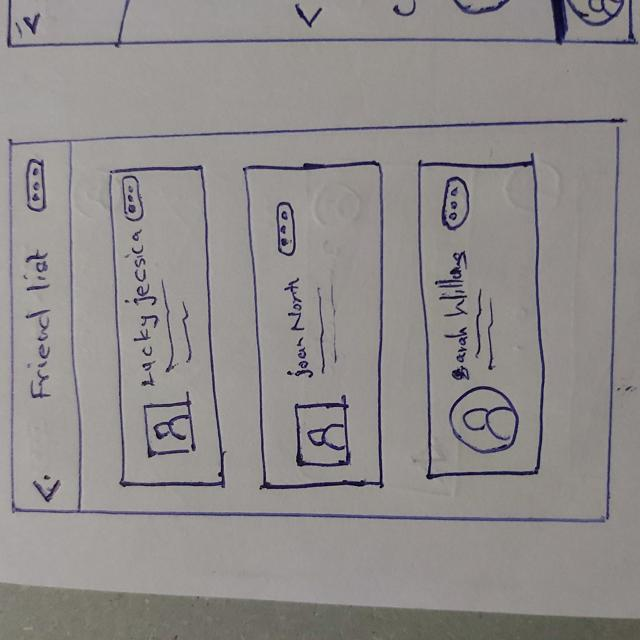ActionButton: (8, 154, 72, 218)
AppBar: (6, 140, 86, 513)
BackButton: (28, 472, 64, 507)
Icon: (450, 385, 518, 454), (295, 402, 355, 471), (142, 401, 197, 455), (441, 177, 471, 231), (276, 202, 298, 256), (122, 174, 145, 222), (27, 158, 47, 213)
Layout: (243, 161, 389, 489), (415, 160, 547, 480), (107, 166, 229, 489)
ListView: (97, 151, 566, 504)
MainLayout: (5, 110, 628, 527)
TextView: (22, 251, 60, 401), (438, 245, 473, 388), (129, 228, 160, 389), (156, 277, 192, 375), (284, 278, 316, 377), (311, 284, 341, 371), (475, 283, 499, 377)
VerticalListView: (95, 151, 567, 507)
